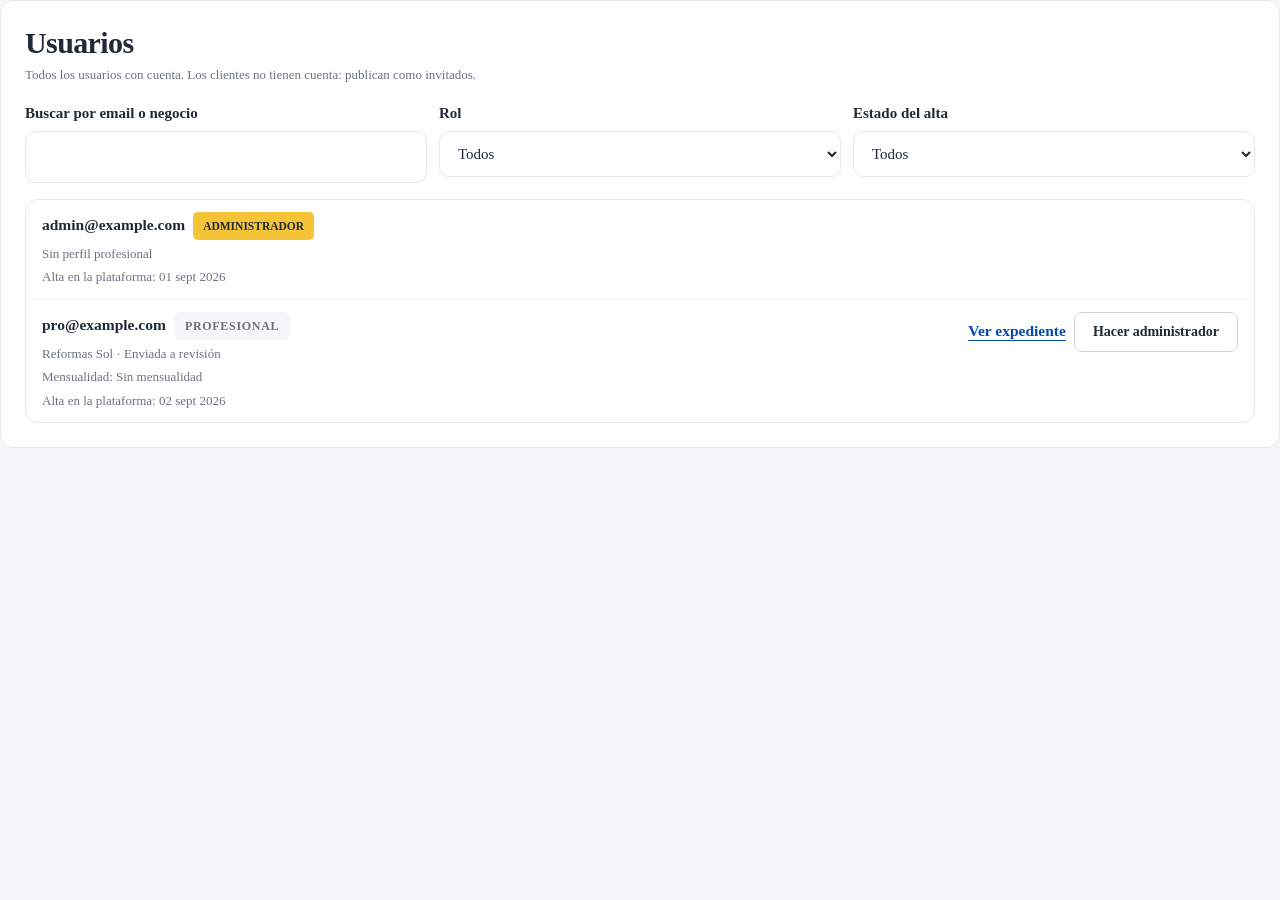
Test: AdminUsers › shows the translated error and keeps the dialog open
The image size is (1280, 900).
Click the button "Hacer administrador" at (1156, 332), box [1074, 312, 1238, 352]
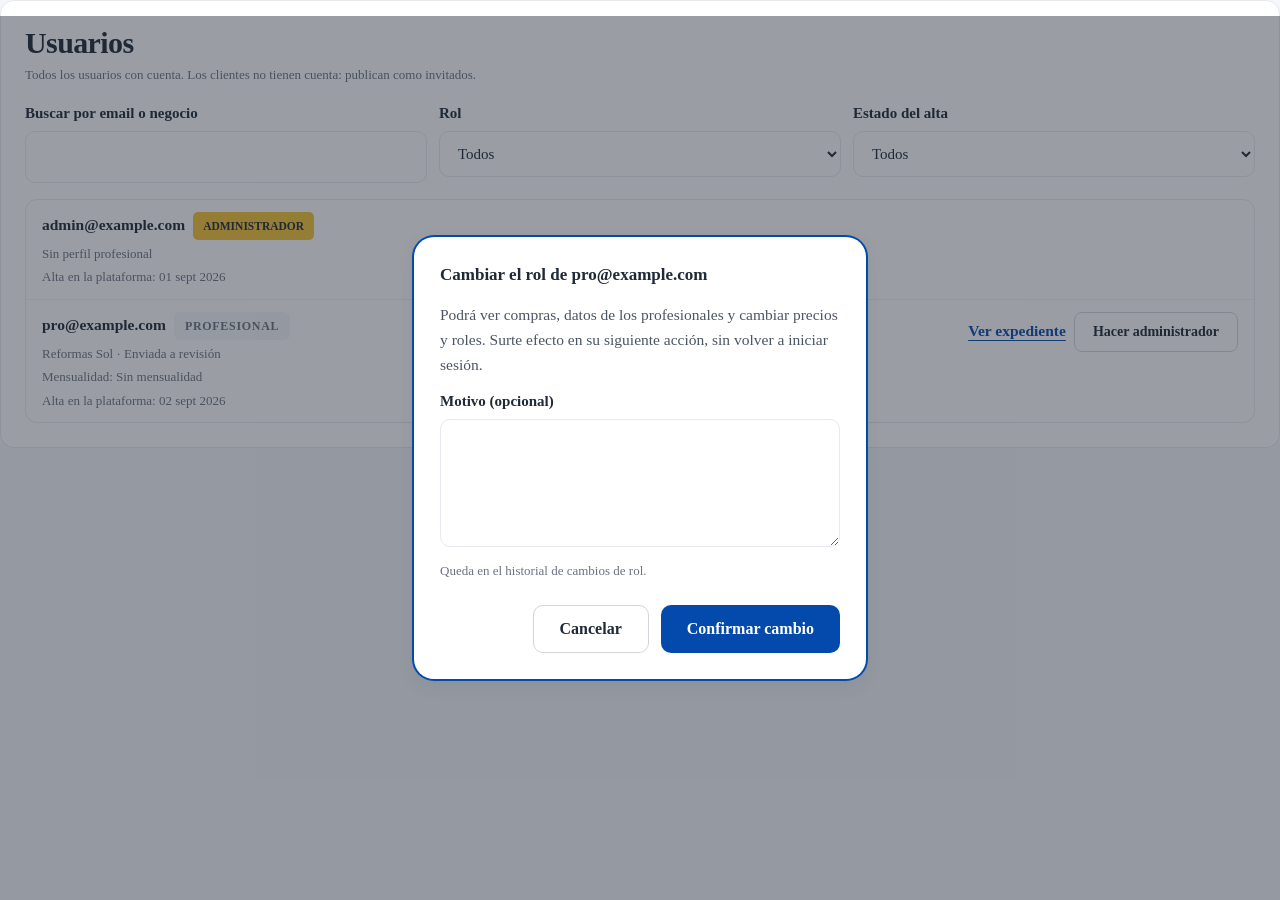
Click the button "Confirmar cambio" at (750, 629), box [661, 605, 840, 653]
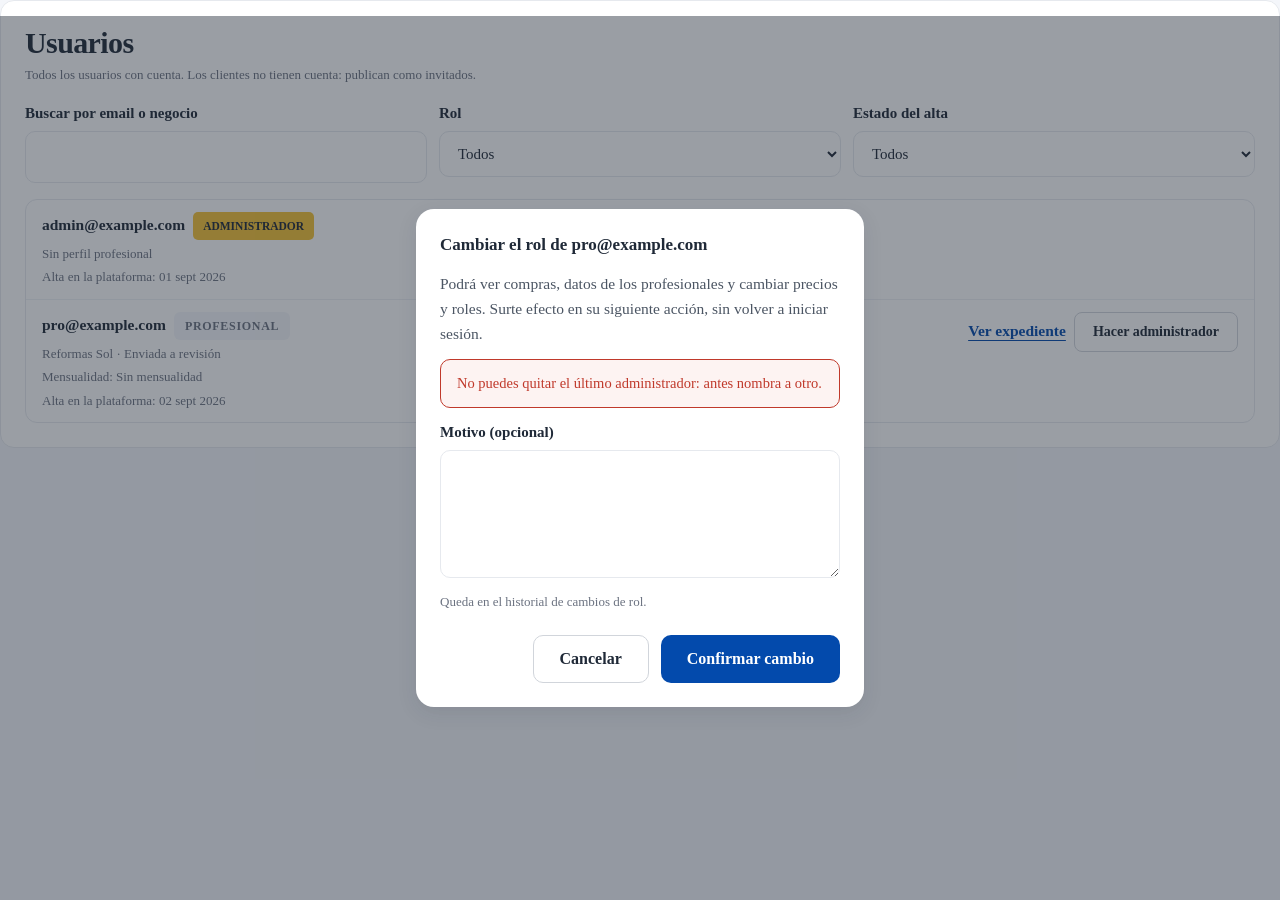
Expected: the text "No puedes quitar el último administrador: antes nombra a otro." is shown, [457, 372, 823, 395]
